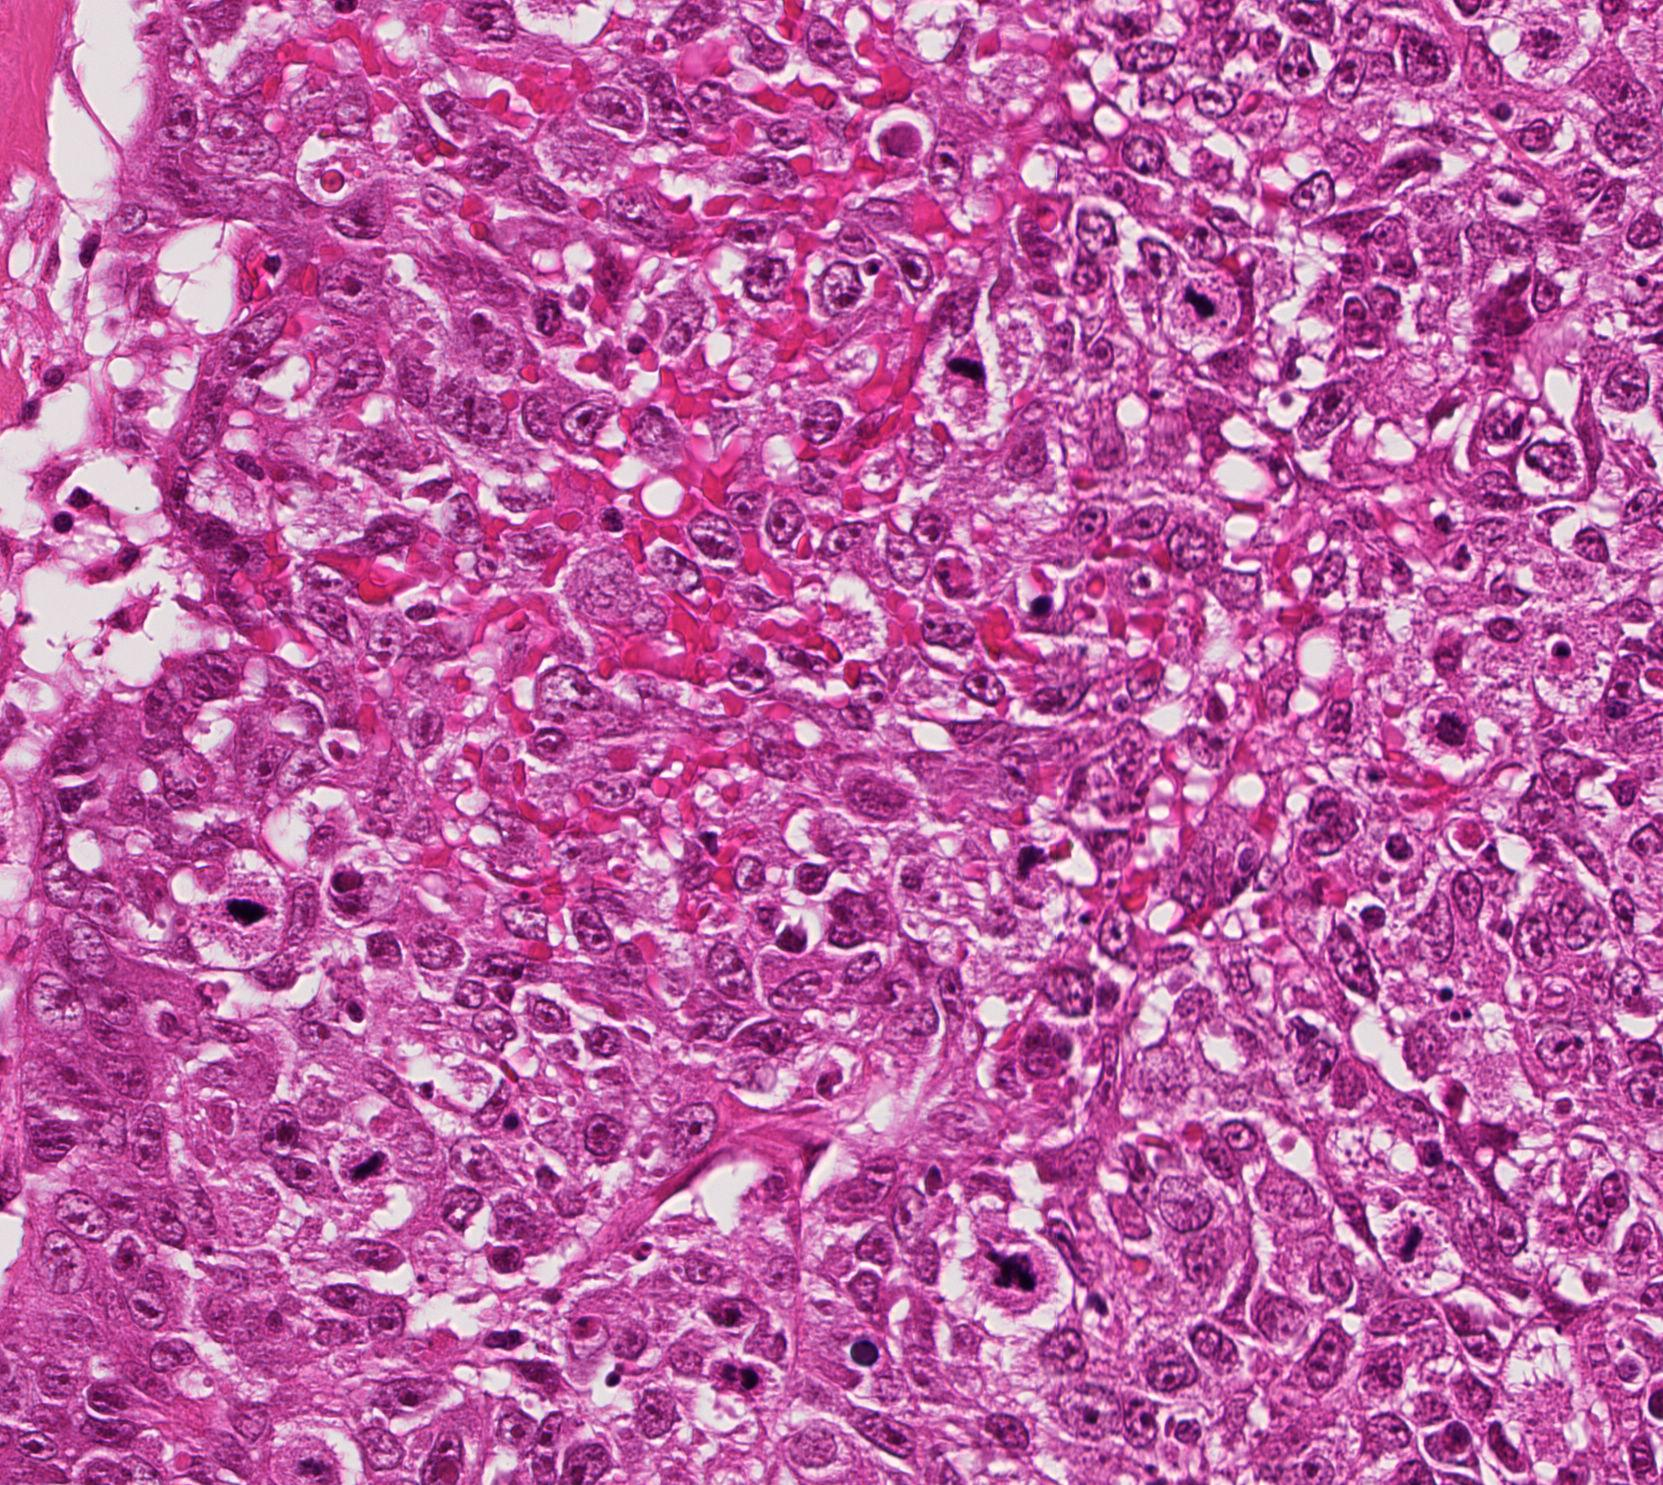mitosis: (338, 1138, 399, 1198), (1373, 1205, 1434, 1266), (991, 1246, 1049, 1304)
